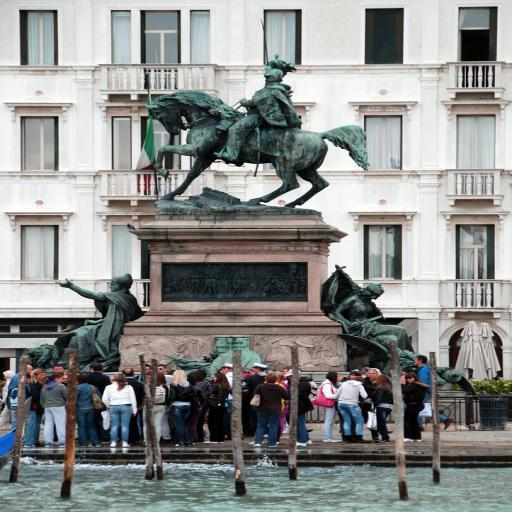horse: (144, 89, 374, 209)
